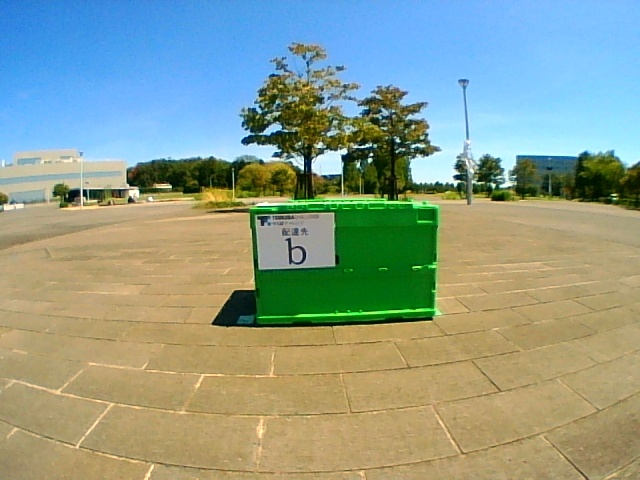green_box: (250, 198, 439, 325)
tag_b: (258, 214, 333, 267)
